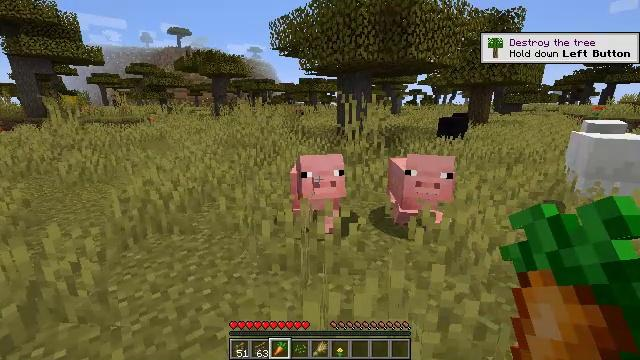pig: (387, 155, 453, 234), (290, 157, 345, 228)
sheep: (566, 120, 640, 202), (437, 113, 468, 140)
